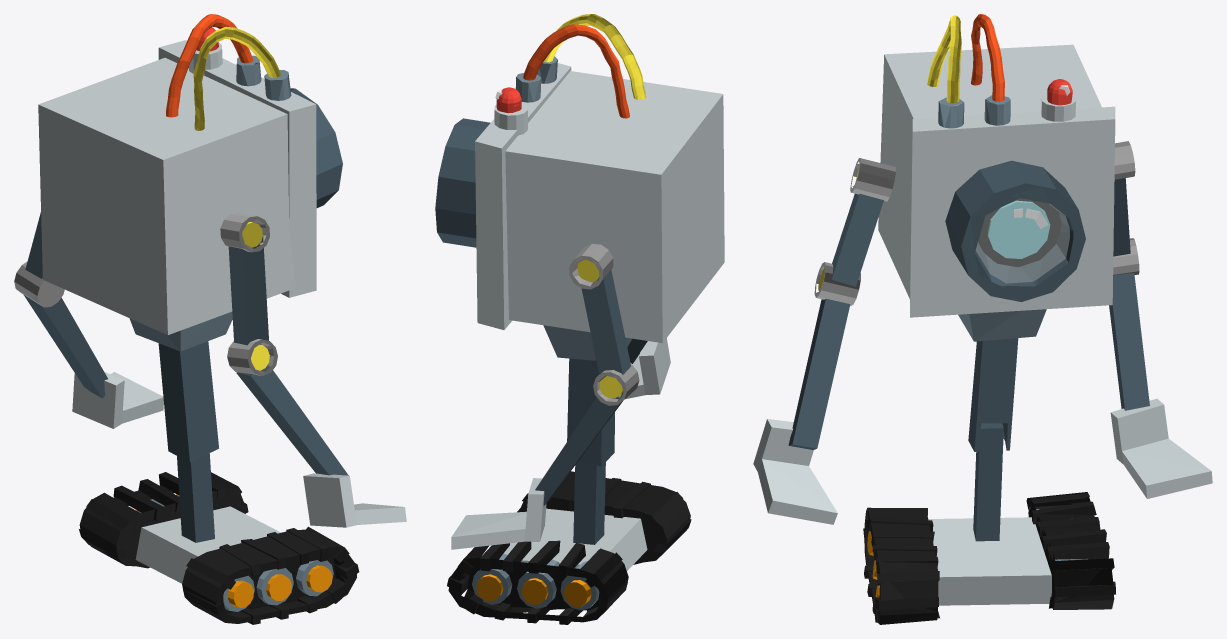
File: robot.glb
The picture shows the model from 3 angles, left to right: view 1: azimuth 30°, elevation 25°; view 2: azimuth 150°, elevation 25°; view 3: azimuth 270°, elevation 25°; orthographic projection. The views are drawn at different scales.
Visible parts, largest first — view 1: group1983749940, group1131850294, group350132644, group2141297075, group80228427, group382064065, group2096540494, group1041594552, group124309493, group175260438, group246472840; view 2: group1983749940, group2141297075, group246472840, group1131850294, group382064065, group1041594552, group80228427, group175260438, group124309493, group2096540494; view 3: group1983749940, group350132644, group382064065, group1131850294, group2141297075, group1041594552, group2096540494, group80228427, group124309493, group175260438, group246472840.
Boxes of the visible parts, left/top/right/bottom form: group1983749940: left=38, top=14, right=342, bottom=351; group1131850294: left=182, top=526, right=359, bottom=624; group350132644: left=220, top=213, right=348, bottom=475; group2141297075: left=79, top=472, right=248, bottom=568; group80228427: left=158, top=341, right=218, bottom=462; group382064065: left=135, top=506, right=280, bottom=583; group2096540494: left=303, top=473, right=406, bottom=527; group1041594552: left=72, top=372, right=163, bottom=428; group124309493: left=23, top=294, right=107, bottom=398; group175260438: left=177, top=453, right=214, bottom=542; group246472840: left=14, top=212, right=64, bottom=307; group1983749940: left=435, top=14, right=724, bottom=360; group2141297075: left=447, top=540, right=628, bottom=624; group246472840: left=569, top=243, right=639, bottom=405; group1131850294: left=517, top=471, right=691, bottom=564; group382064065: left=503, top=508, right=647, bottom=570; group1041594552: left=451, top=478, right=546, bottom=549; group80228427: left=567, top=358, right=614, bottom=466; group175260438: left=573, top=460, right=605, bottom=544; group124309493: left=535, top=396, right=622, bottom=505; group2096540494: left=626, top=338, right=670, bottom=398; group1983749940: left=878, top=14, right=1115, bottom=341; group350132644: left=788, top=158, right=895, bottom=449; group382064065: left=928, top=517, right=1051, bottom=605; group1131850294: left=863, top=507, right=939, bottom=624; group2141297075: left=1026, top=492, right=1115, bottom=609; group1041594552: left=1110, top=398, right=1212, bottom=498; group2096540494: left=753, top=419, right=837, bottom=524; group80228427: left=968, top=338, right=1018, bottom=451; group124309493: left=1109, top=273, right=1149, bottom=410; group175260438: left=973, top=423, right=1003, bottom=541; group246472840: left=1113, top=141, right=1139, bottom=275.
Bounding box in the file's own units: 0.4269 × 0.9302 × 0.6771.
